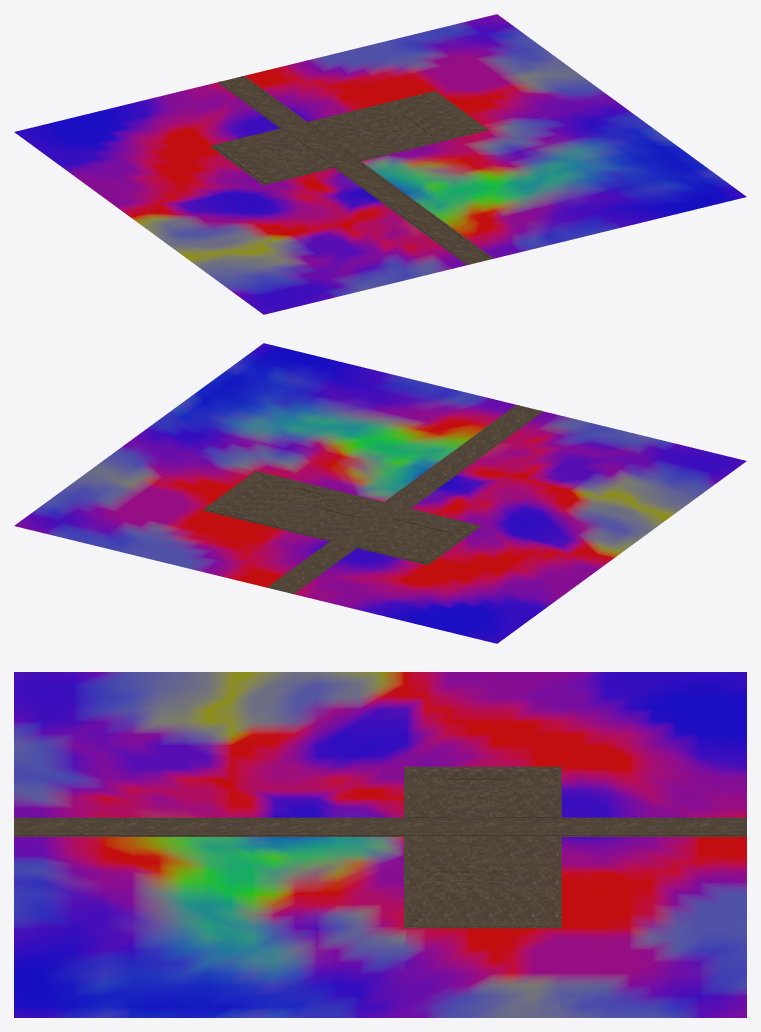
The model's file is level_terrain.fbx.
The picture shows the model from 3 angles, top to bottom: view 1: azimuth 30°, elevation 25°; view 2: azimuth 150°, elevation 25°; view 3: azimuth 270°, elevation 25°; orthographic projection. The views are drawn at different scales.
Parts seen in each view (by area): view 1: Plane; view 2: Plane; view 3: Plane.
Part boxes in pixels (x1,y1,x2,y2): Plane: (14, 14, 746, 314); Plane: (14, 343, 746, 643); Plane: (14, 672, 746, 1017).
Size of the model in its own units: 18517 by 14.5 by 16581.
